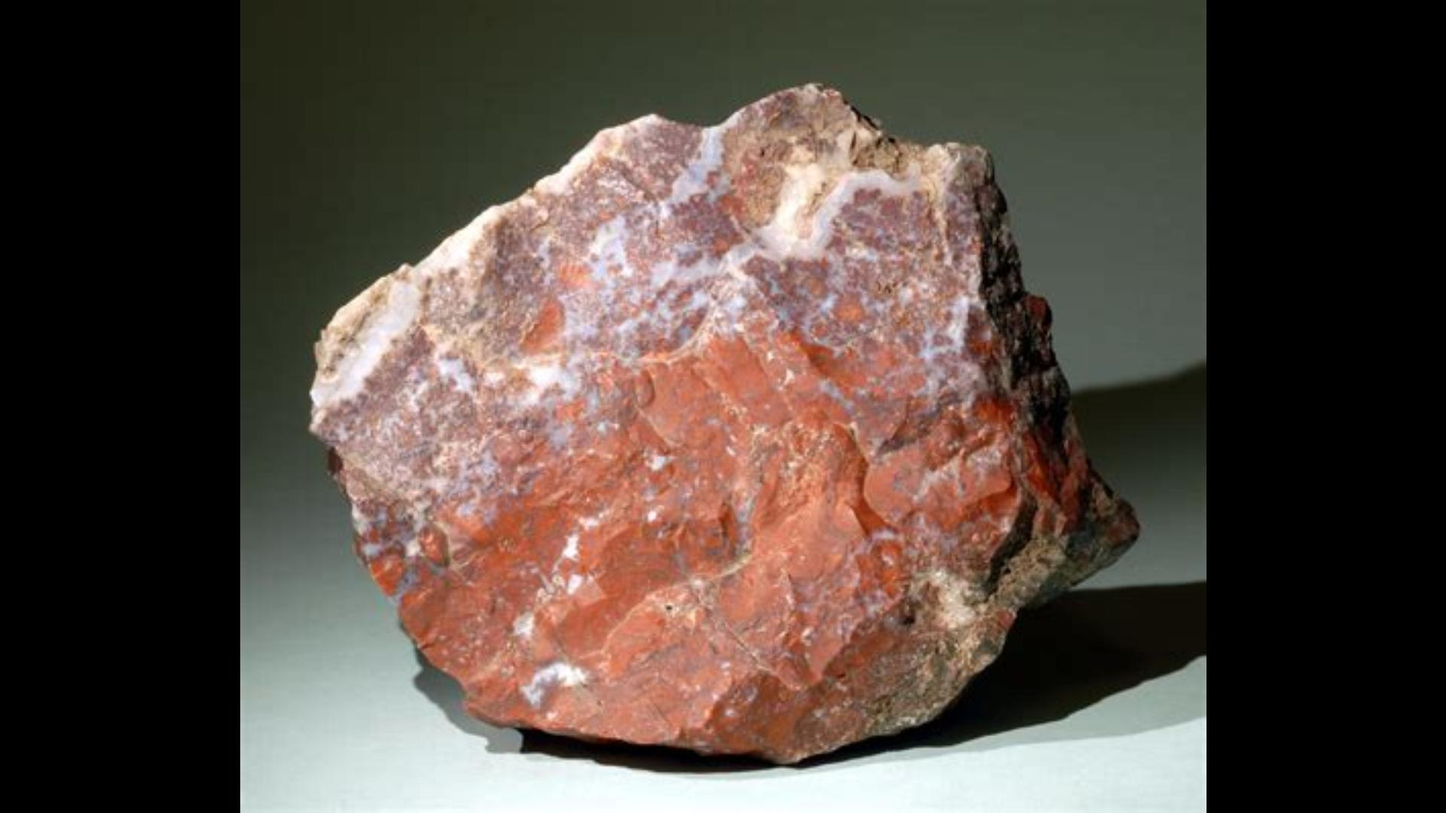rock: (311, 86, 1130, 760)
